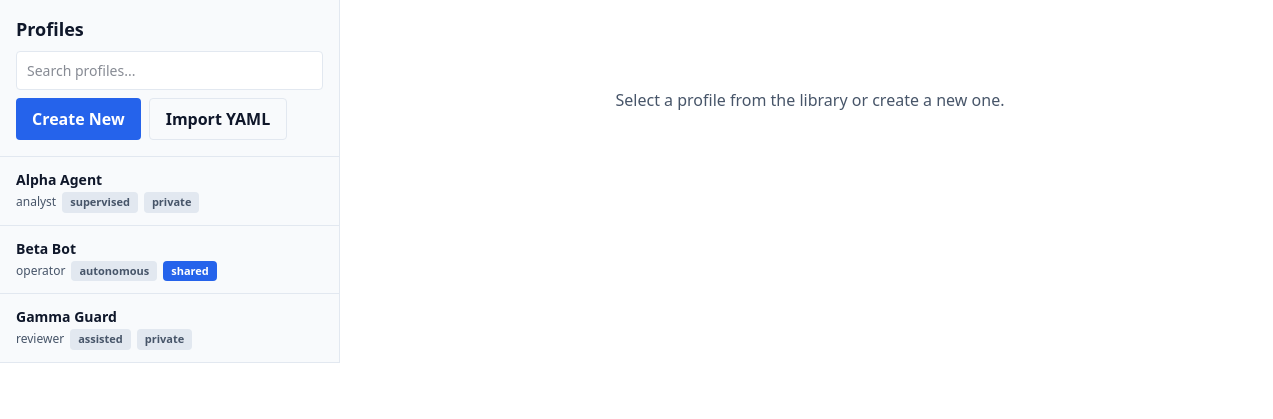
Test case: ProfilesPage — import YAML flow › shows Importing... while import is pending
What coordinates should you click on to do the following:
click the button "Import YAML"
I would click on:
 (218, 119)
Its box is [149,98,287,140].
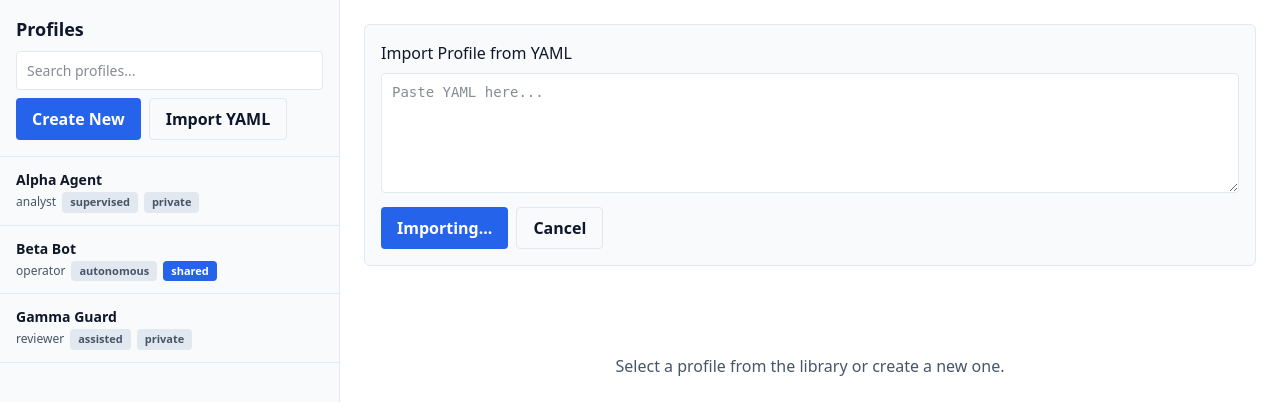
Check: the button "Importing..." is shown, box [381,207,508,249]
